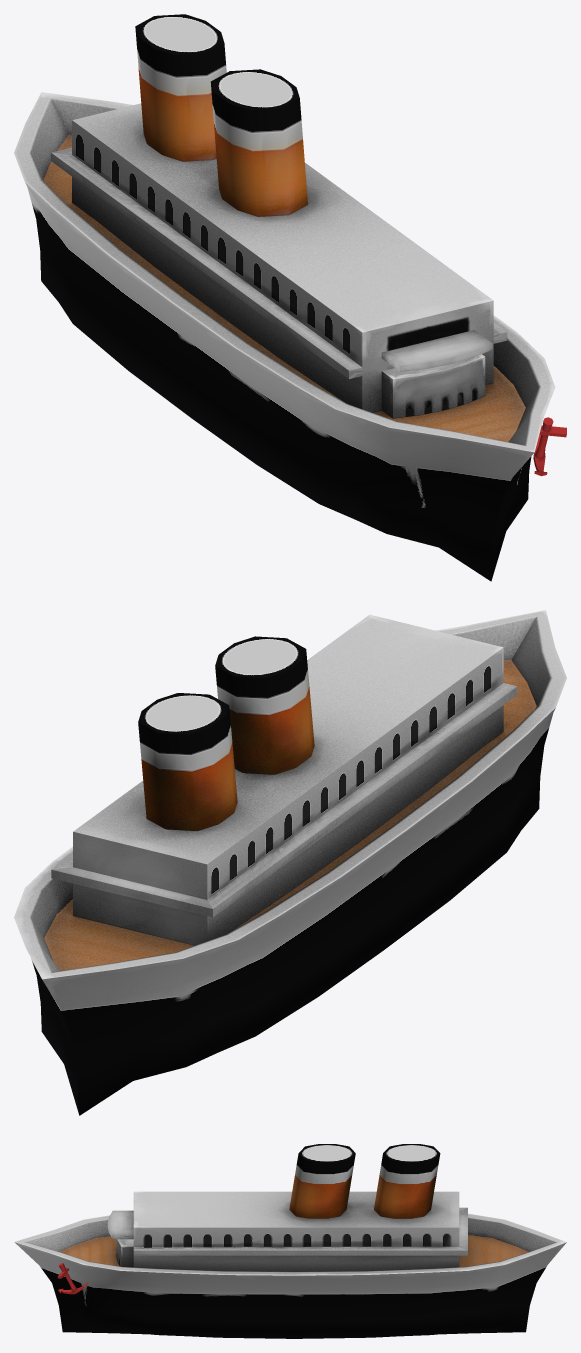
Rendered from boat_big.fbx.
3 views of the same model, one above another, from view 1: azimuth 30°, elevation 25°; view 2: azimuth 150°, elevation 25°; view 3: azimuth 270°, elevation 25° (orthographic). The views are drawn at different scales.
Visible parts, largest first — view 1: bigger_boat; view 2: bigger_boat; view 3: bigger_boat.
Part boxes in pixels (x1,y1,x2,y2): bigger_boat: [14, 14, 566, 581]; bigger_boat: [14, 610, 566, 1115]; bigger_boat: [14, 1144, 566, 1338].
Bounding box in the file's own units: 68.98 × 95.78 × 258.
Materials: 1 (1 with a texture image).
